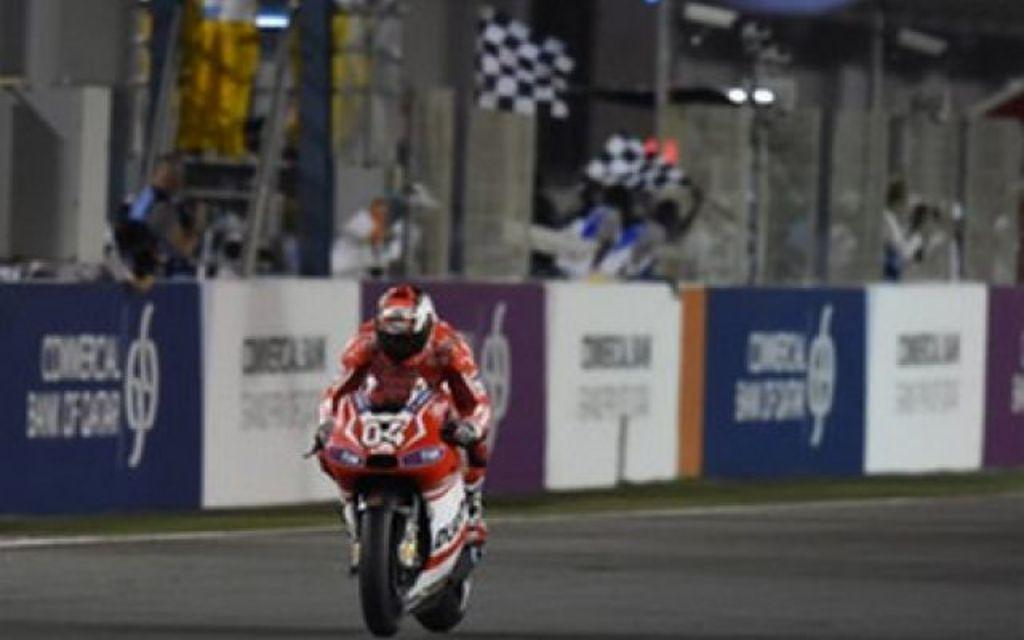helmet: (374, 284, 440, 371)
